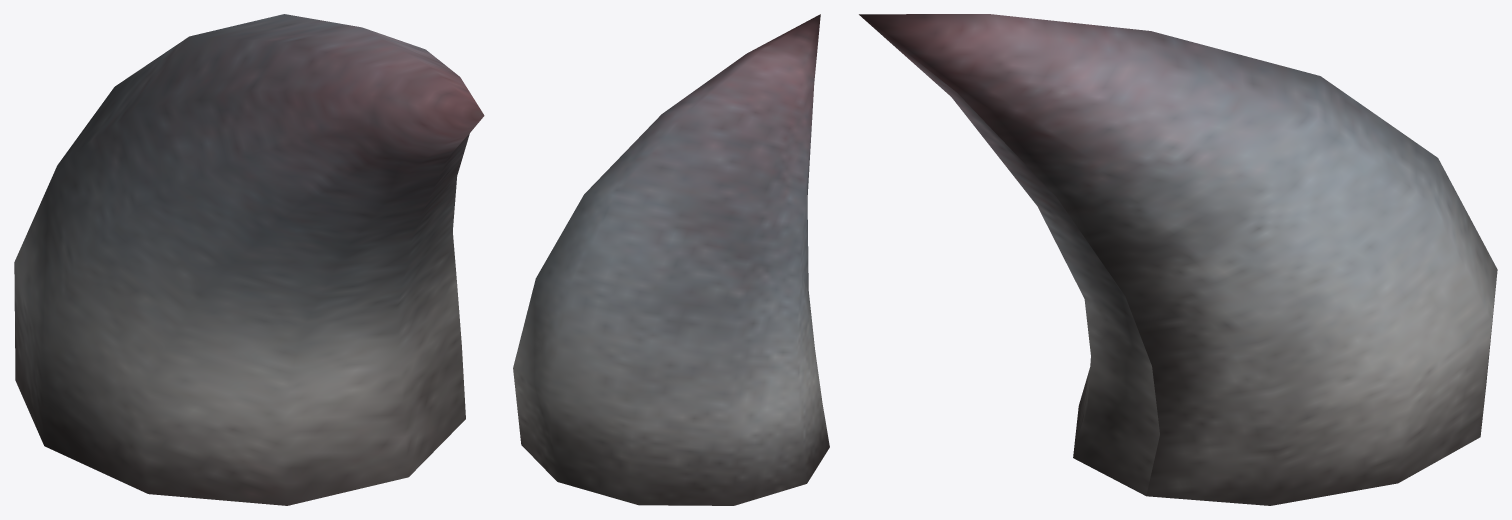
Rendered from footArmorCiladeaLFT.fbx.
3 renders of one model, left to right at view 1: azimuth 30°, elevation 25°; view 2: azimuth 150°, elevation 25°; view 3: azimuth 270°, elevation 25°, orthographic. The views are drawn at different scales.
Visible parts, largest first — view 1: footArmorCiladeaLFT; view 2: footArmorCiladeaLFT; view 3: footArmorCiladeaLFT.
Boxes of the visible parts, x1,y1,x2,y2 form: footArmorCiladeaLFT: (14, 14, 484, 505); footArmorCiladeaLFT: (513, 14, 829, 505); footArmorCiladeaLFT: (859, 14, 1497, 505).
Bounding box in the file's own units: 0.2019 × 0.2277 × 0.3083.
